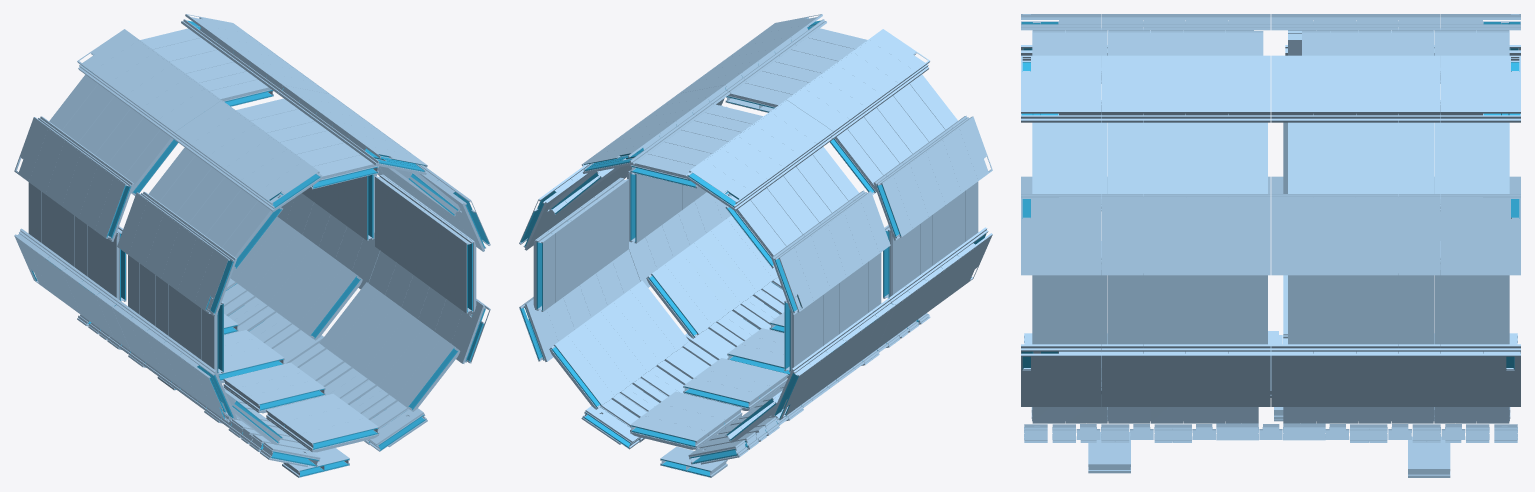
The model's file is muon-barrel-outer.glb.
3 views of the same model, side by side, from view 1: azimuth 30°, elevation 25°; view 2: azimuth 150°, elevation 25°; view 3: azimuth 270°, elevation 25° (orthographic). The views are drawn at different scales.
Visible parts, largest first — view 1: null; view 2: null; view 3: null.
Part boxes in pixels (bbox=[...]): null: bbox=[14, 14, 490, 477]; null: bbox=[519, 14, 992, 477]; null: bbox=[1021, 14, 1520, 477].
Size of the model in its own units: 21.5 by 24.1 by 25.69.
